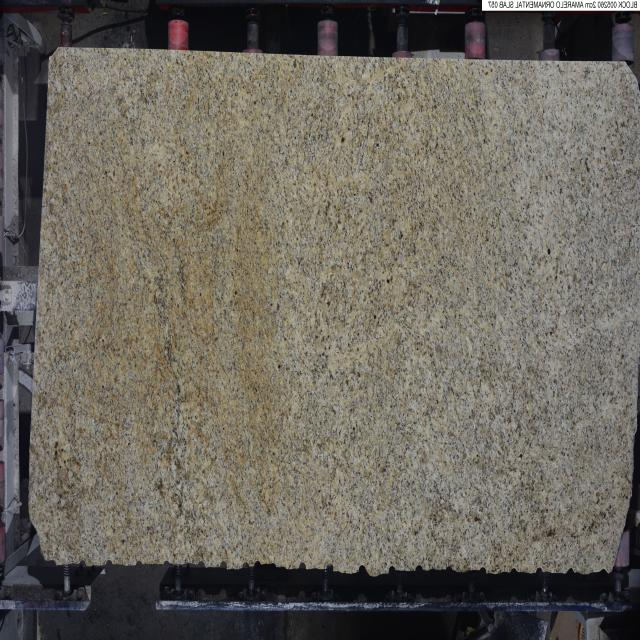chapa: (30, 49, 640, 576)
veio: (357, 562, 368, 578), (324, 562, 336, 574), (219, 560, 228, 572), (298, 562, 308, 570)
